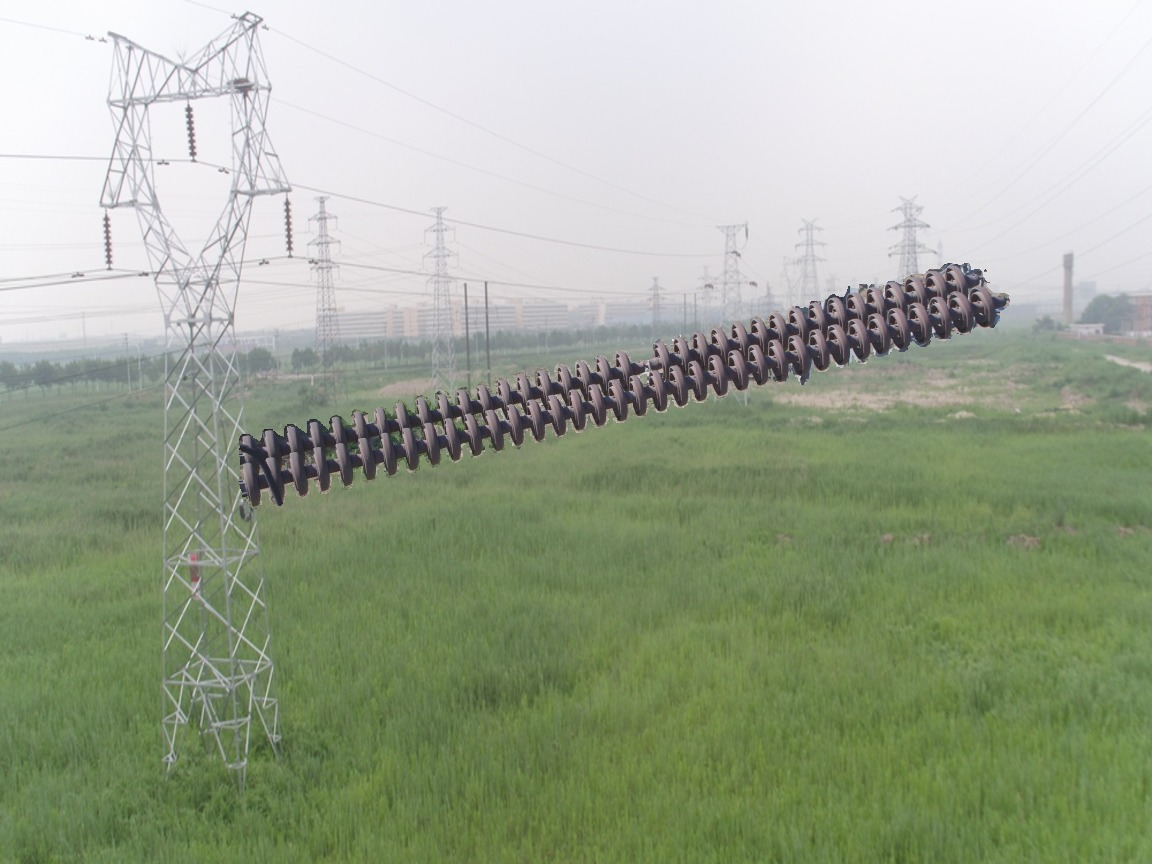defect: (609, 336, 678, 380)
